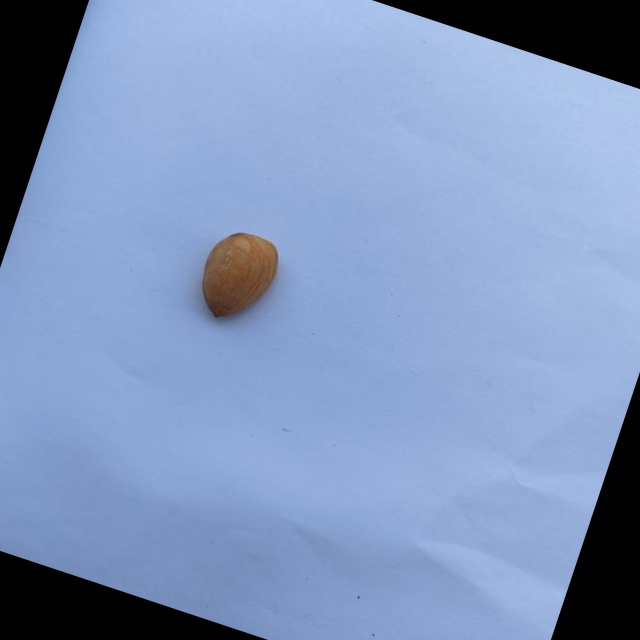grade2: (187, 219, 293, 336)
